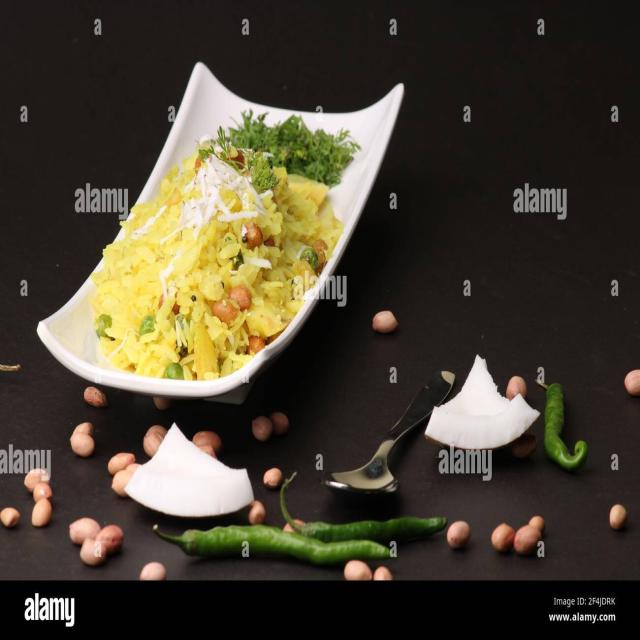POHA: (88, 132, 343, 375)
